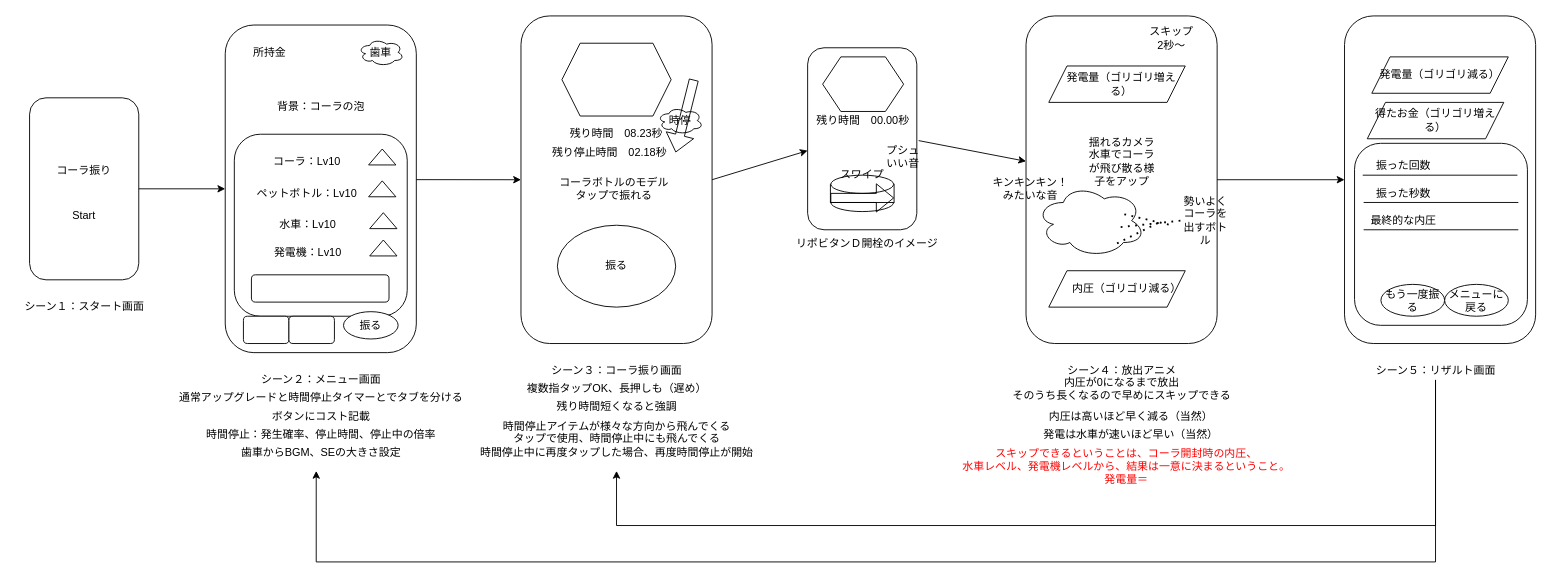
Some shapes in this 1552 by 585 pixel diagram are drawn without their labels. The centre of each missing label's shape, as x and y in pixels:
アップグレードの説明: point (320, 288)
回る水車のアニメ: point (1090, 220)
振れ！！！！: point (616, 79)
開けろ！: point (863, 83)
